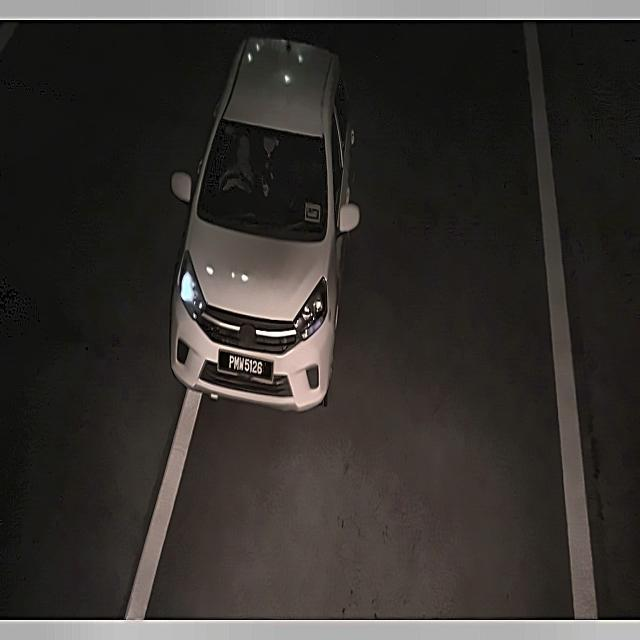car: (216, 345, 276, 388)
